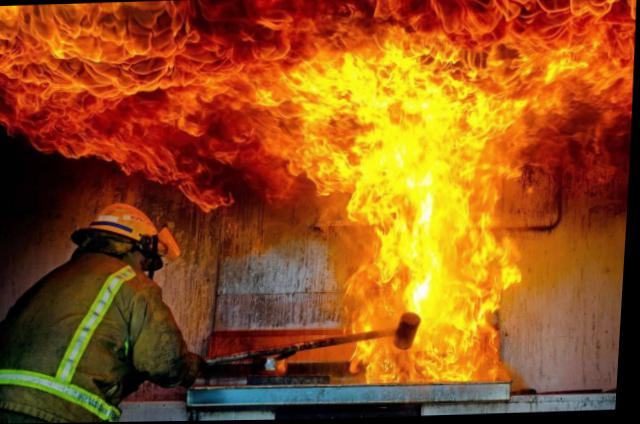fire: (0, 0, 639, 169), (367, 220, 524, 302), (352, 155, 513, 222), (420, 298, 508, 382), (284, 158, 358, 194), (177, 164, 234, 209), (362, 342, 420, 384), (347, 302, 407, 333), (126, 162, 179, 182)
